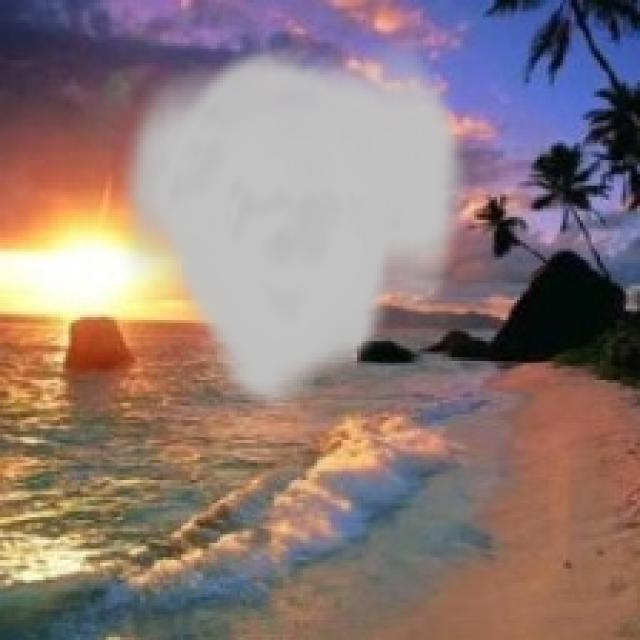smoke: (111, 43, 468, 414)
